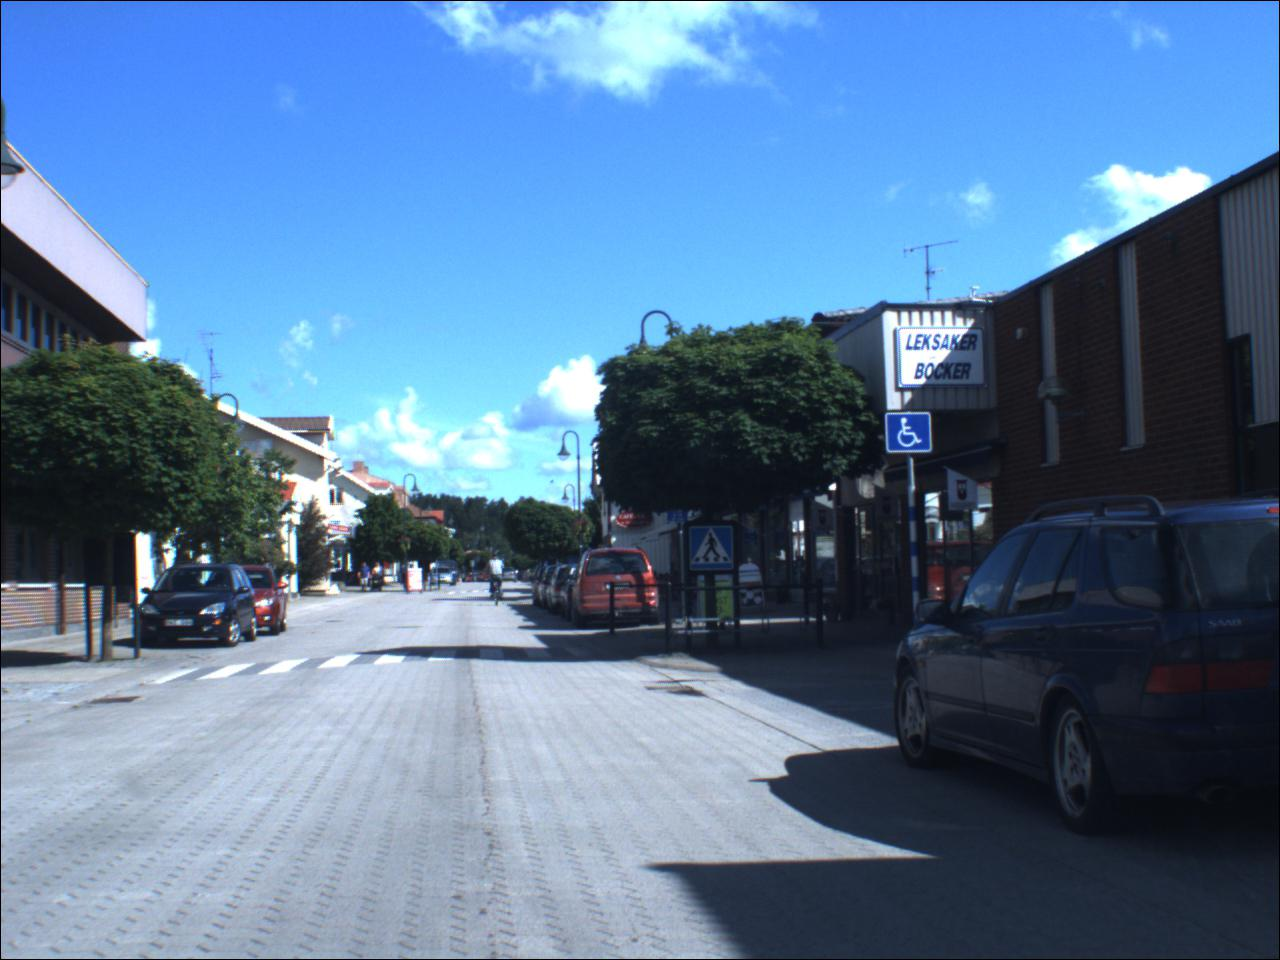PEDESTRIAN_CROSSING: (688, 524, 741, 575)
